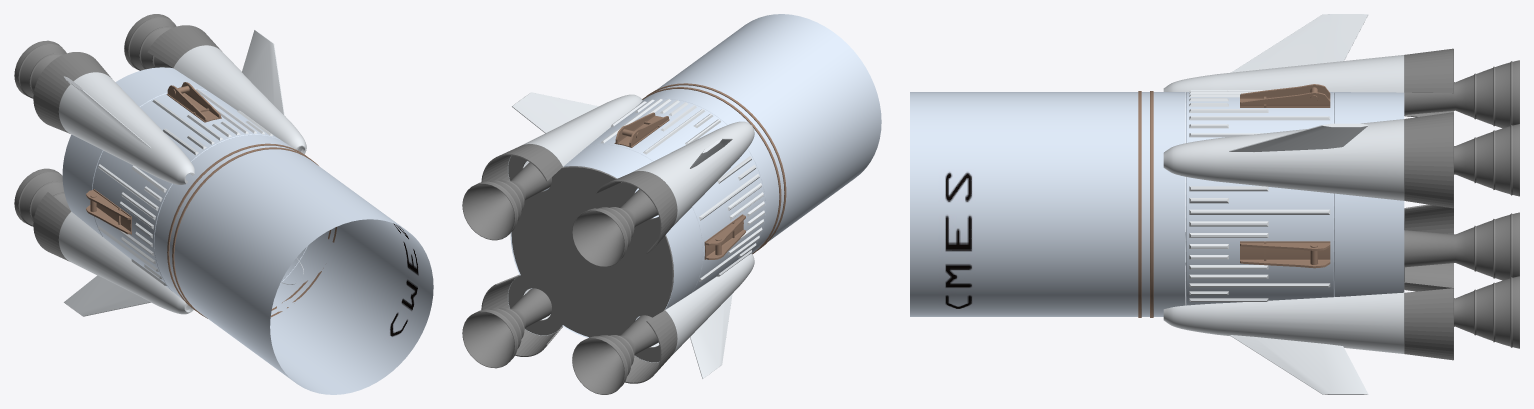
File: engine_part.glb
The picture shows the model from 3 angles, left to right: view 1: azimuth 30°, elevation 25°; view 2: azimuth 150°, elevation 25°; view 3: azimuth 270°, elevation 25°; orthographic projection. The views are drawn at different scales.
Parts seen in each view (by area): view 1: 12217_rocket_v1_l1; view 2: 12217_rocket_v1_l1; view 3: 12217_rocket_v1_l1.
Part boxes in pixels (x1,y1,x2,y2): 12217_rocket_v1_l1: (14, 14, 433, 394); 12217_rocket_v1_l1: (462, 14, 881, 394); 12217_rocket_v1_l1: (910, 14, 1519, 394).
Bounding box in the file's own units: 179 × 202 × 411.
4 materials, 1 textured.
